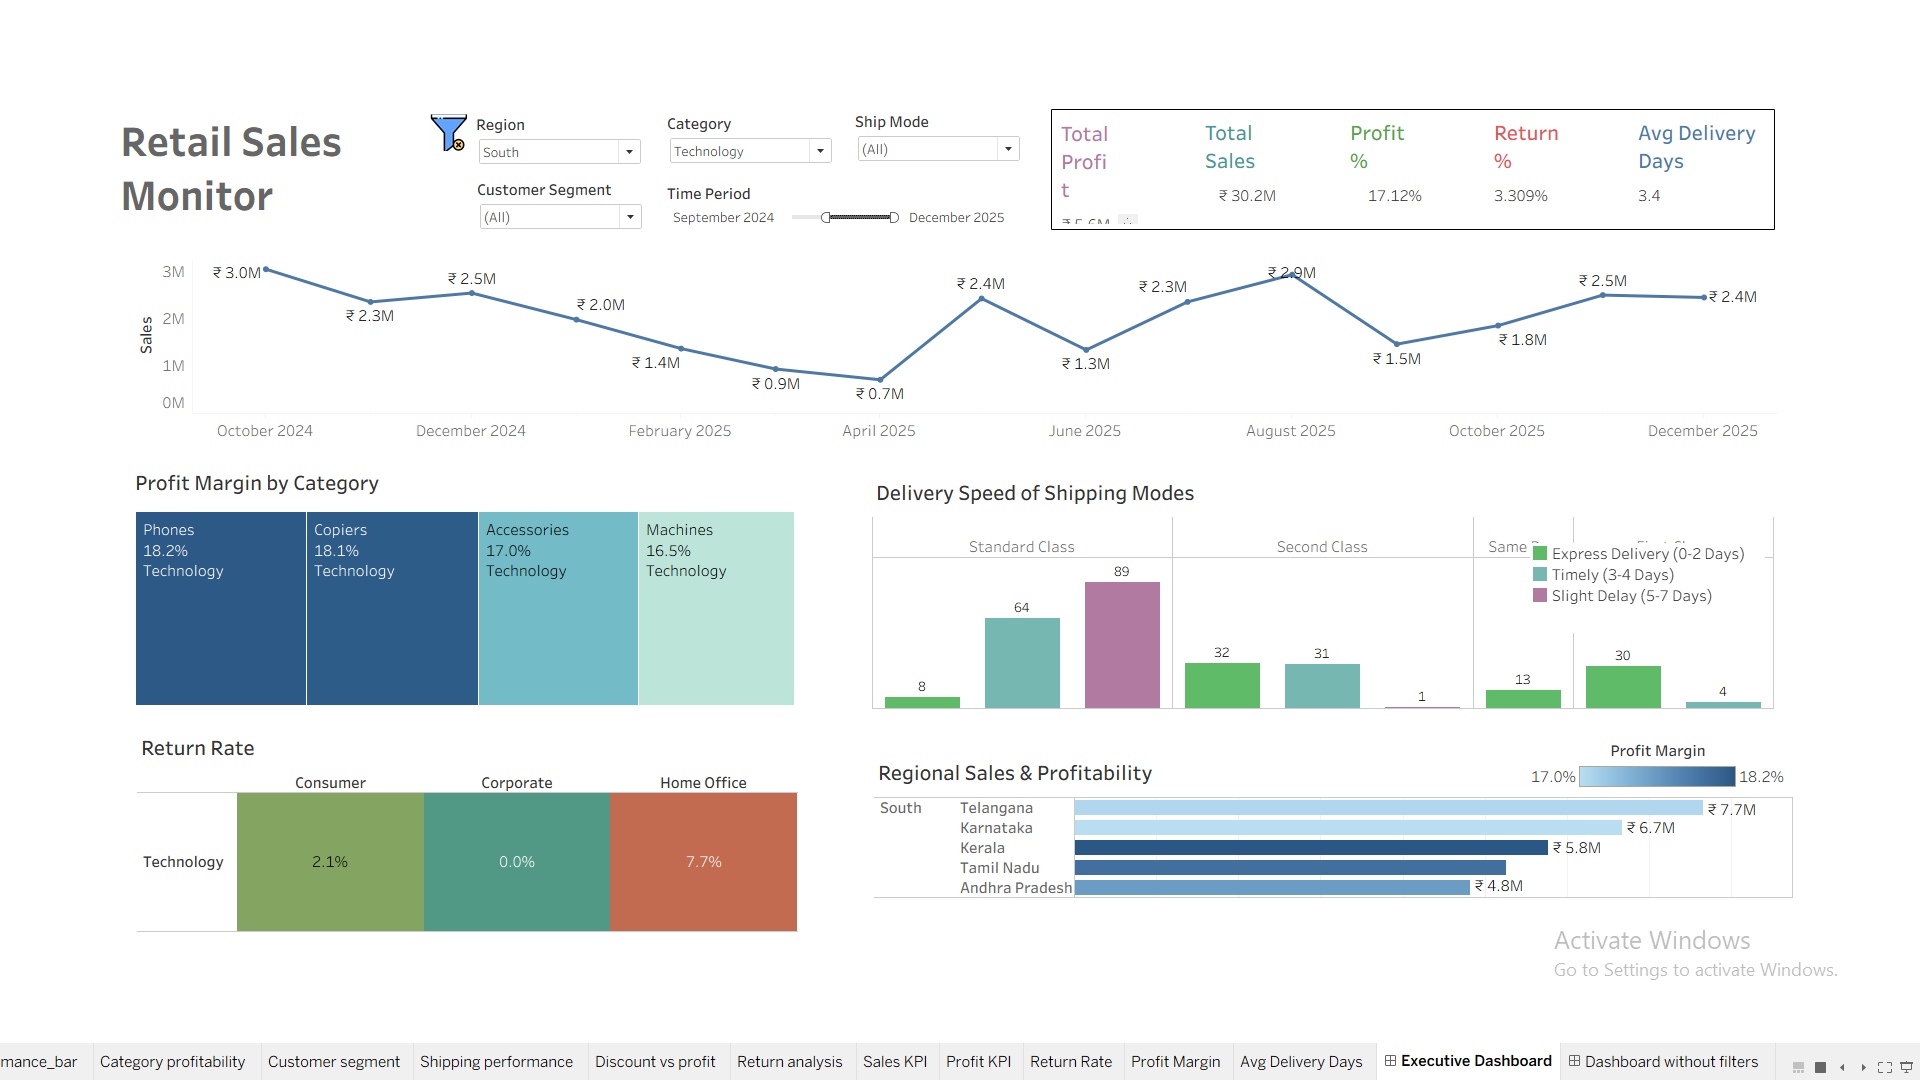

The dashboard page shown, as its layout file describes it:
{"tool":"tableau","page":{"name":"Executive Dashboard","canvas":[1000,1000],"units":"permille","ordinal":1},"visuals":[{"type":"dashboard-object","box":[191.3,9.5,22.6,78.1]},{"type":"text","box":[9.8,13,153,151.5]},{"type":"worksheet","title":"Profit KPI","mark":"Automatic","box":[553.3,22.5,84.1,138.5]},{"type":"worksheet","title":"Sales KPI","mark":"Automatic","box":[637.4,22.5,84.1,138.5]},{"type":"worksheet","title":"Profit Margin","mark":"Automatic","box":[721.5,22.5,84.1,138.5]},{"type":"worksheet","title":"Return Rate","mark":"Automatic","box":[805.6,22.5,84.1,138.5]},{"type":"worksheet","title":"Avg Delivery Days","mark":"Automatic","box":[889.7,22.5,83.5,138.5]},{"type":"filter","title":"Shipping performance","param":"[federated.15pxepb1rhsevl1brppo21aqfgl3].[none:ship_mode:nk]","box":[438.8,23.7,97.5,73.4]},{"type":"filter","title":"Category profitability","param":"[federated.15pxepb1rhsevl1brppo21aqfgl3].[none:category:nk]","box":[329.7,26,97.5,86.4]},{"type":"filter","title":"Regional performance_bar","param":"[federated.15pxepb1rhsevl1brppo21aqfgl3].[none:region:nk]","box":[218.8,27.2,97.5,87.6]},{"type":"image","param":"Image/download (1).png","box":[109.1,85.2,36.6,66.3]},{"type":"filter","title":"Return analysis","param":"[federated.15pxepb1rhsevl1brppo21aqfgl3].[none:customer_segment:nk]","box":[219.4,101.8,97.5,82.8]},{"type":"filter","title":"Sales trend","param":"[federated.15pxepb1rhsevl1brppo21aqfgl3].[tmn:order_date:qk]","box":[329.7,106.5,202.3,69.8]},{"type":"worksheet","title":"Sales trend","mark":"Automatic","rows":["sales"],"cols":["order_date"],"box":[16.4,196.5,958.6,213]},{"type":"worksheet","title":"Category profitability","mark":"Automatic","box":[18.3,433.1,388.2,286.4]},{"type":"worksheet","title":"Shipping performance","mark":"Automatic","rows":["order_id"],"cols":["ship_mode"],"box":[449.1,445,524.7,273.4]},{"type":"legend","title":"Shipping performance","param":"[federated.15pxepb1rhsevl1brppo21aqfgl3].[Delivery Days (group)]","box":[831.2,525.4,137.1,105.3]},{"type":"worksheet","title":"Return analysis","mark":"Square","rows":["category"],"cols":["customer_segment"],"box":[21.3,742,384.5,235.5]},{"type":"legend","title":"Regional performance_bar","param":"[federated.15pxepb1rhsevl1brppo21aqfgl3].[med:Calculation_0332894582788096:qk]","box":[829.4,755,152.3,59.2]}]}

Visuals, with their boxes on the dashboard's canvas, which has no fixed pixel size, in thousandths of its width and height (x1, y1, x2, y2). These are canvas units, not pixel positions in the 1920x1080 screenshot, which may show the page scaled, cropped or inside an application window:
dashboard-object: BBox(191, 10, 214, 88)
text: BBox(10, 13, 163, 164)
"Profit KPI" worksheet: BBox(553, 22, 637, 161)
"Sales KPI" worksheet: BBox(637, 22, 722, 161)
"Profit Margin" worksheet: BBox(722, 22, 806, 161)
"Return Rate" worksheet: BBox(806, 22, 890, 161)
"Avg Delivery Days" worksheet: BBox(890, 22, 973, 161)
"Shipping performance" filter: BBox(439, 24, 536, 97)
"Category profitability" filter: BBox(330, 26, 427, 112)
"Regional performance_bar" filter: BBox(219, 27, 316, 115)
image: BBox(109, 85, 146, 152)
"Return analysis" filter: BBox(219, 102, 317, 185)
"Sales trend" filter: BBox(330, 106, 532, 176)
"Sales trend" worksheet: BBox(16, 196, 975, 410)
"Category profitability" worksheet: BBox(18, 433, 406, 720)
"Shipping performance" worksheet: BBox(449, 445, 974, 718)
"Shipping performance" legend: BBox(831, 525, 968, 631)
"Return analysis" worksheet (Square marks): BBox(21, 742, 406, 978)
"Regional performance_bar" legend: BBox(829, 755, 982, 814)
